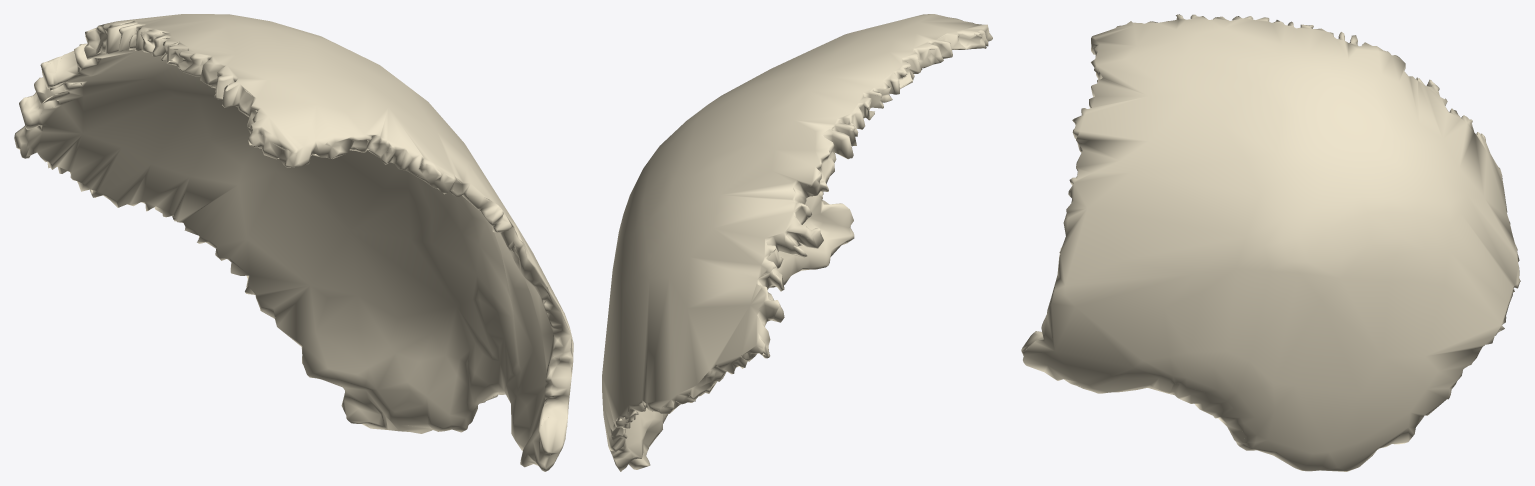
The model's file is esqueleto-parietal-bone-l.glb.
3 views of the same model, side by side, from view 1: azimuth 30°, elevation 25°; view 2: azimuth 150°, elevation 25°; view 3: azimuth 270°, elevation 25° (orthographic). The views are drawn at different scales.
Parts seen in each view (by area): view 1: Parietal bone.l; view 2: Parietal bone.l; view 3: Parietal bone.l.
Part boxes in pixels (x1,y1,x2,y2): Parietal bone.l: (14,14,573,471); Parietal bone.l: (602,14,992,471); Parietal bone.l: (1021,14,1520,471).
Size of the model in its own units: 0.0817 by 0.1157 by 0.1433.
